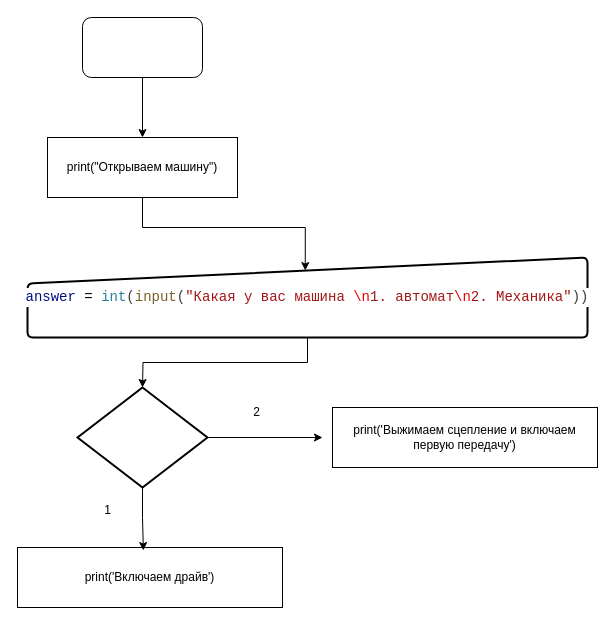
This 615x625 diagram has some shape labels left out. Here are the shapes that lost their labels. From the top down, the box of each, then its label:
(82, 16, 202, 78): start
(76, 386, 208, 488): if answer == 1 else:
